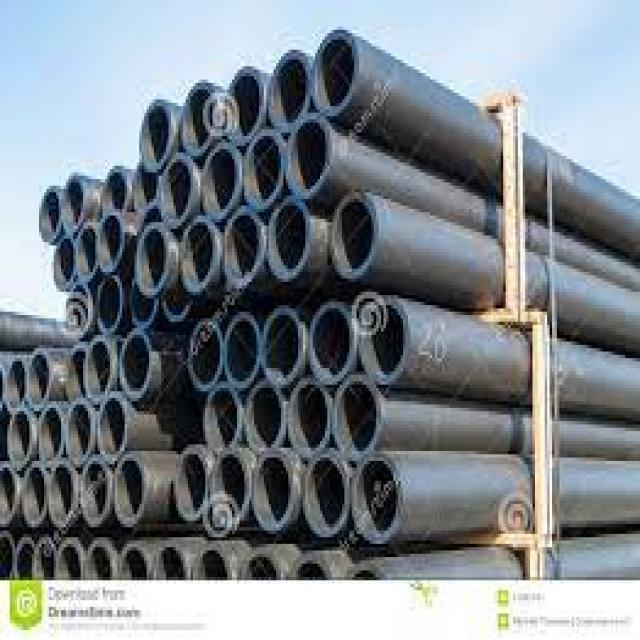pipe: (315, 35, 357, 111), (361, 301, 404, 375), (356, 459, 396, 535), (332, 198, 374, 269), (309, 309, 351, 378), (337, 385, 377, 454), (288, 119, 325, 192), (308, 460, 346, 531), (272, 56, 308, 128), (245, 133, 280, 205), (266, 311, 299, 383), (290, 385, 327, 449), (227, 71, 262, 138), (271, 204, 307, 269), (182, 84, 216, 152), (225, 213, 258, 281), (202, 149, 237, 212), (160, 157, 192, 225), (254, 458, 288, 522), (189, 317, 220, 387), (248, 388, 282, 448), (141, 105, 172, 168), (227, 314, 256, 381), (182, 220, 211, 285), (213, 458, 243, 520), (177, 450, 205, 514), (207, 389, 237, 446), (139, 229, 167, 290), (84, 340, 112, 397), (123, 334, 150, 393), (99, 402, 125, 457), (83, 464, 108, 517), (68, 407, 92, 459), (52, 466, 74, 522), (118, 463, 141, 516), (99, 216, 121, 270), (98, 278, 120, 332), (132, 164, 156, 213), (28, 353, 50, 405), (130, 284, 156, 325), (61, 180, 82, 230), (76, 226, 96, 278), (10, 413, 30, 465), (39, 413, 61, 460), (40, 190, 60, 241), (24, 471, 44, 522), (102, 171, 126, 213), (65, 348, 84, 400), (87, 547, 115, 581), (156, 548, 186, 579), (198, 550, 227, 580), (245, 555, 278, 580), (6, 360, 23, 407), (59, 545, 82, 579), (0, 466, 14, 519), (55, 240, 71, 286), (123, 550, 146, 580), (37, 542, 55, 580), (16, 545, 33, 580), (0, 537, 12, 579)
